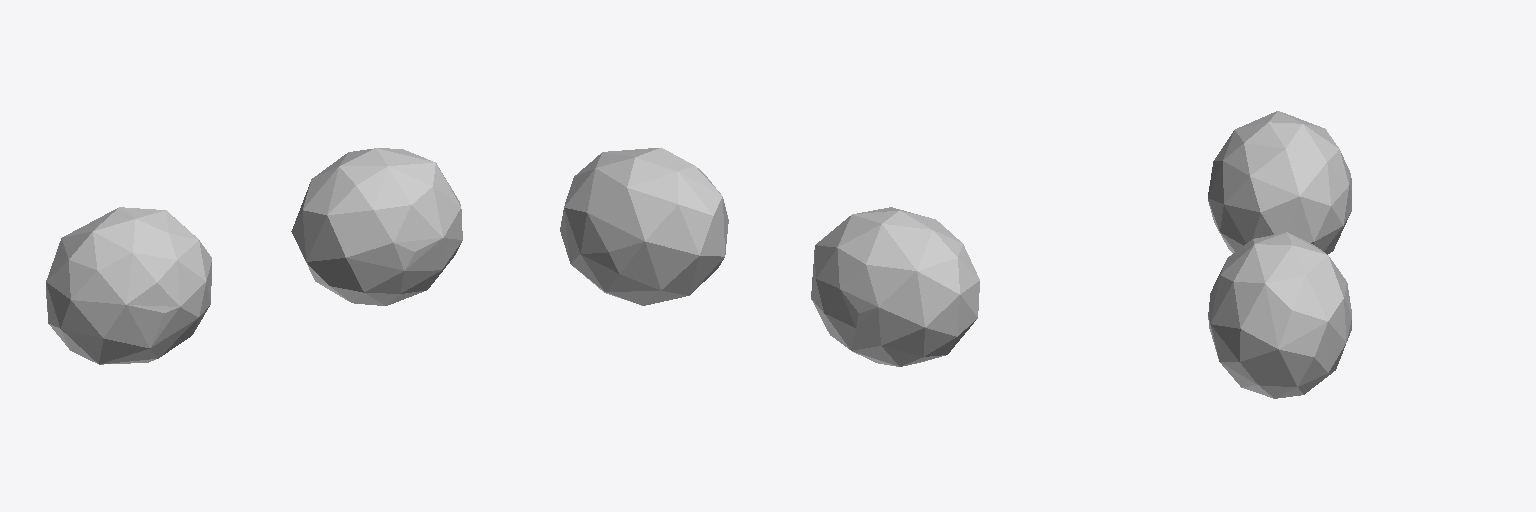
Rendered from Eyes.OBJ.
3 renders of one model, left to right at view 1: azimuth 30°, elevation 25°; view 2: azimuth 150°, elevation 25°; view 3: azimuth 270°, elevation 25°, orthographic.
Visible parts, largest first — view 1: Group11996; view 2: Group11996; view 3: Group11996.
Boxes of the visible parts, x1=… form: Group11996: x1=46, y1=148, x2=462, y2=364; Group11996: x1=560, y1=148, x2=979, y2=366; Group11996: x1=1208, y1=111, x2=1351, y2=398.
Size of the model in its own units: 0.0978 by 0.0334 by 0.0303.